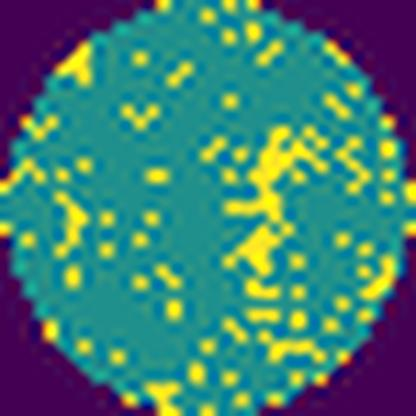Loc: (216, 122, 328, 274), (59, 198, 86, 258)
